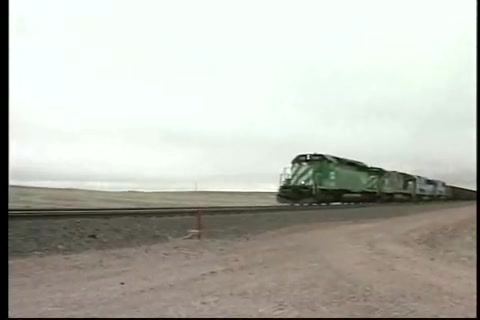train: (276, 152, 478, 209)
